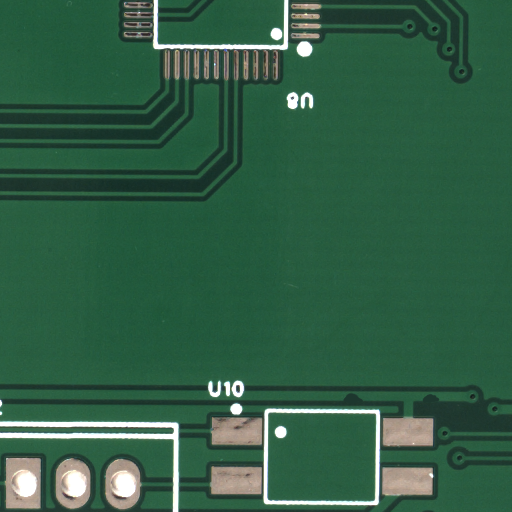Mouse_bite: (353, 398, 374, 409), (429, 397, 447, 407)
